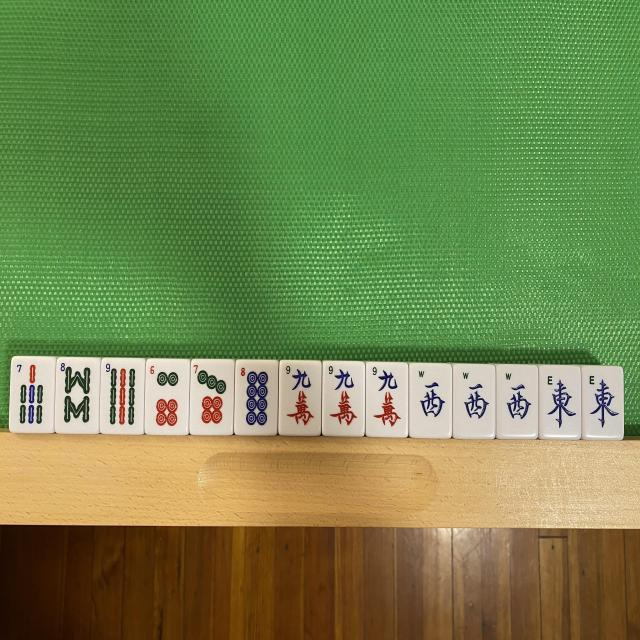hwe: (582, 366, 624, 440), (540, 366, 582, 439)
hww: (409, 363, 452, 439), (496, 366, 538, 438), (454, 365, 495, 437)
sb7: (12, 358, 54, 433)
sb8: (57, 358, 98, 432)
sb9: (101, 358, 142, 434)
sc9: (280, 361, 322, 436), (324, 361, 364, 436), (367, 363, 407, 436)
sd6: (146, 360, 188, 434)
sd7: (191, 361, 233, 435)
sd8: (235, 359, 278, 436)
